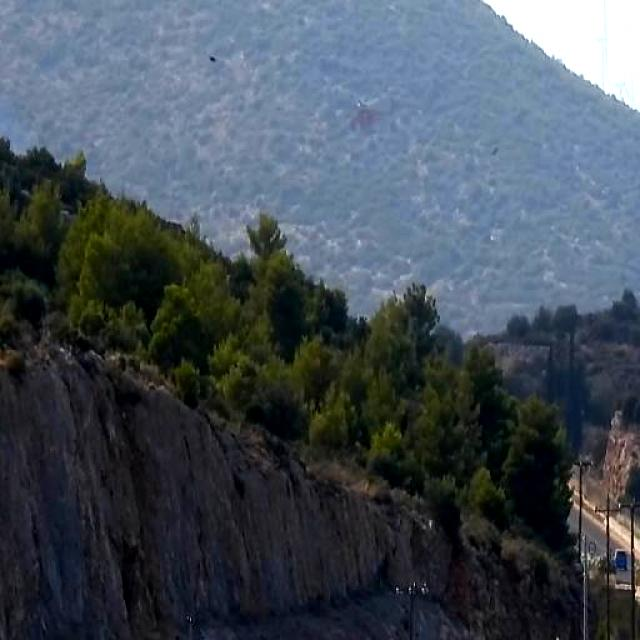drone: (349, 96, 401, 134)
